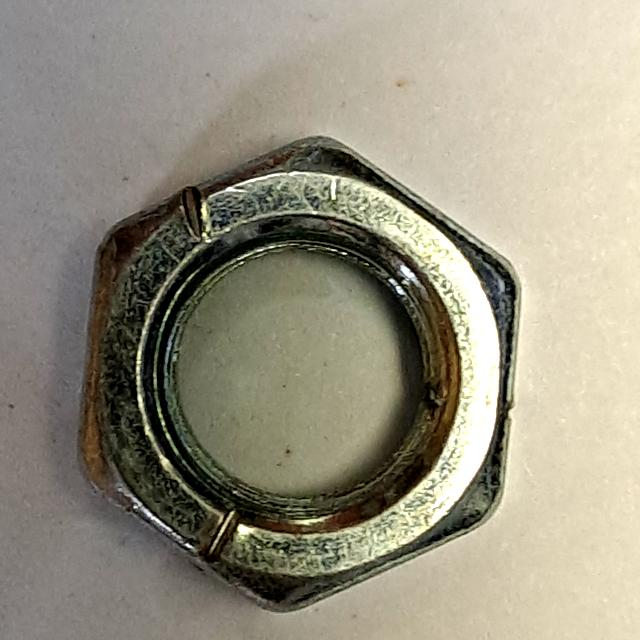Scratches: (64, 124, 547, 632)
